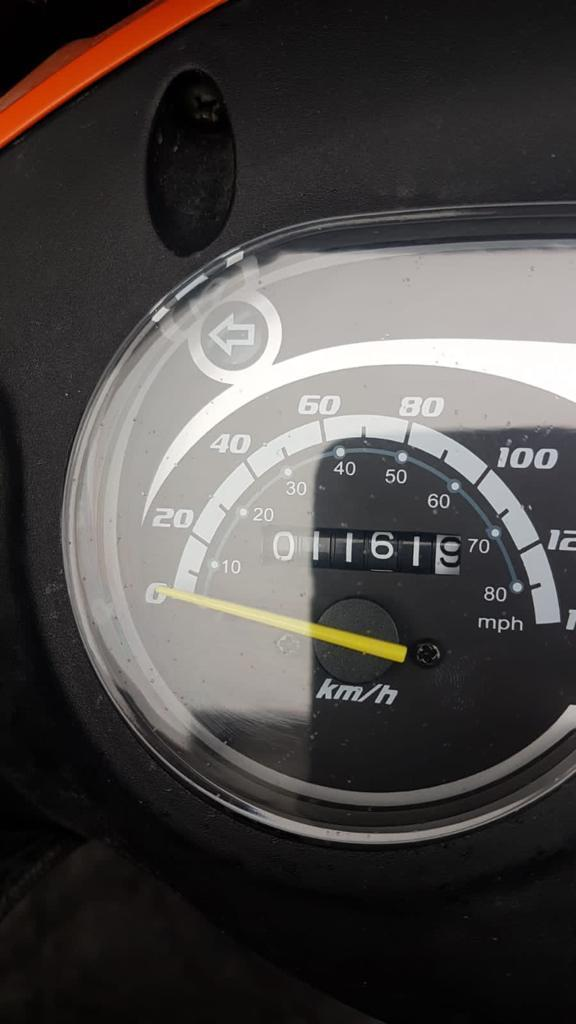0: (270, 529, 295, 562)
1: (408, 533, 423, 567), (342, 530, 355, 564), (310, 528, 322, 562)
6: (368, 530, 395, 561)
9: (437, 535, 462, 569)
odometer: (256, 522, 467, 579)
